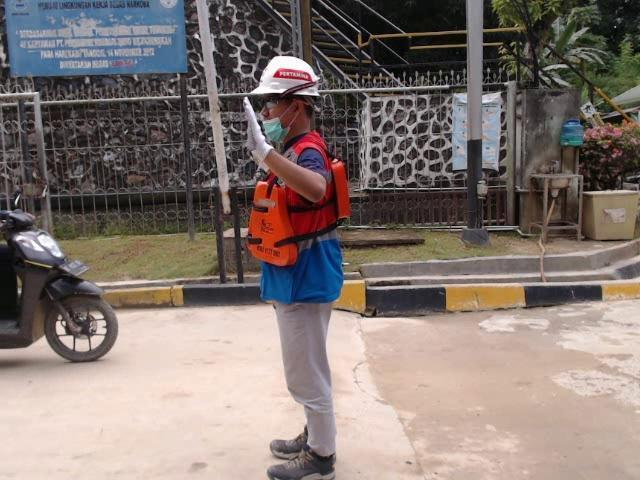vest: (240, 158, 356, 265)
